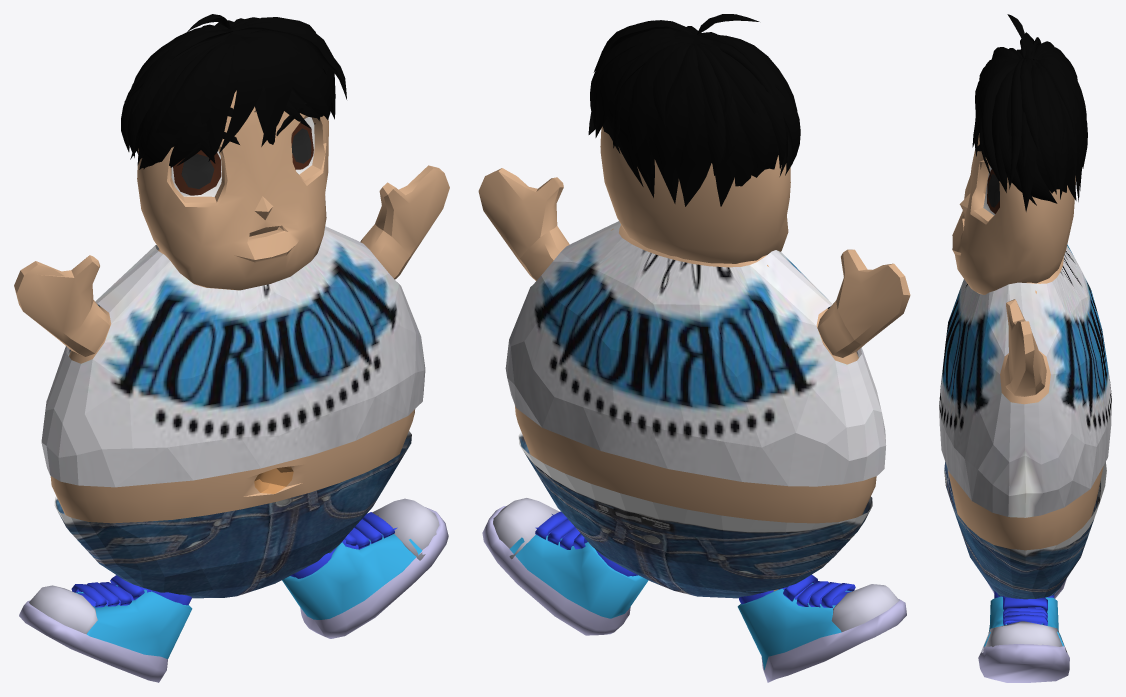
File: HORMO.fbx
The picture shows the model from 3 angles, left to right: view 1: azimuth 30°, elevation 25°; view 2: azimuth 150°, elevation 25°; view 3: azimuth 270°, elevation 25°; orthographic projection. The views are drawn at different scales.
Visible parts, largest first — view 1: remera.001, hormona, zapato, pelo, pantalon.001; view 2: remera.001, hormona, pelo, zapato, pantalon.001; view 3: remera.001, hormona, pelo, zapato, pantalon.001.
Boxes of the visible parts, left/top/right/bottom form: remera.001: left=41, top=226, right=425, bottom=487; hormona: left=14, top=90, right=449, bottom=523; zapato: left=19, top=498, right=448, bottom=682; pelo: left=121, top=14, right=346, bottom=169; pantalon.001: left=54, top=431, right=411, bottom=598; remera.001: left=505, top=221, right=886, bottom=486; hormona: left=478, top=126, right=910, bottom=591; pelo: left=588, top=14, right=800, bottom=206; zapato: left=482, top=498, right=906, bottom=682; pantalon.001: left=518, top=432, right=872, bottom=598; remera.001: left=939, top=244, right=1111, bottom=517; hormona: left=948, top=133, right=1103, bottom=550; pelo: left=972, top=14, right=1087, bottom=211; zapato: left=978, top=579, right=1069, bottom=682; pantalon.001: left=944, top=462, right=1106, bottom=599.
Size of the model in its own units: 645 by 925 by 237.
